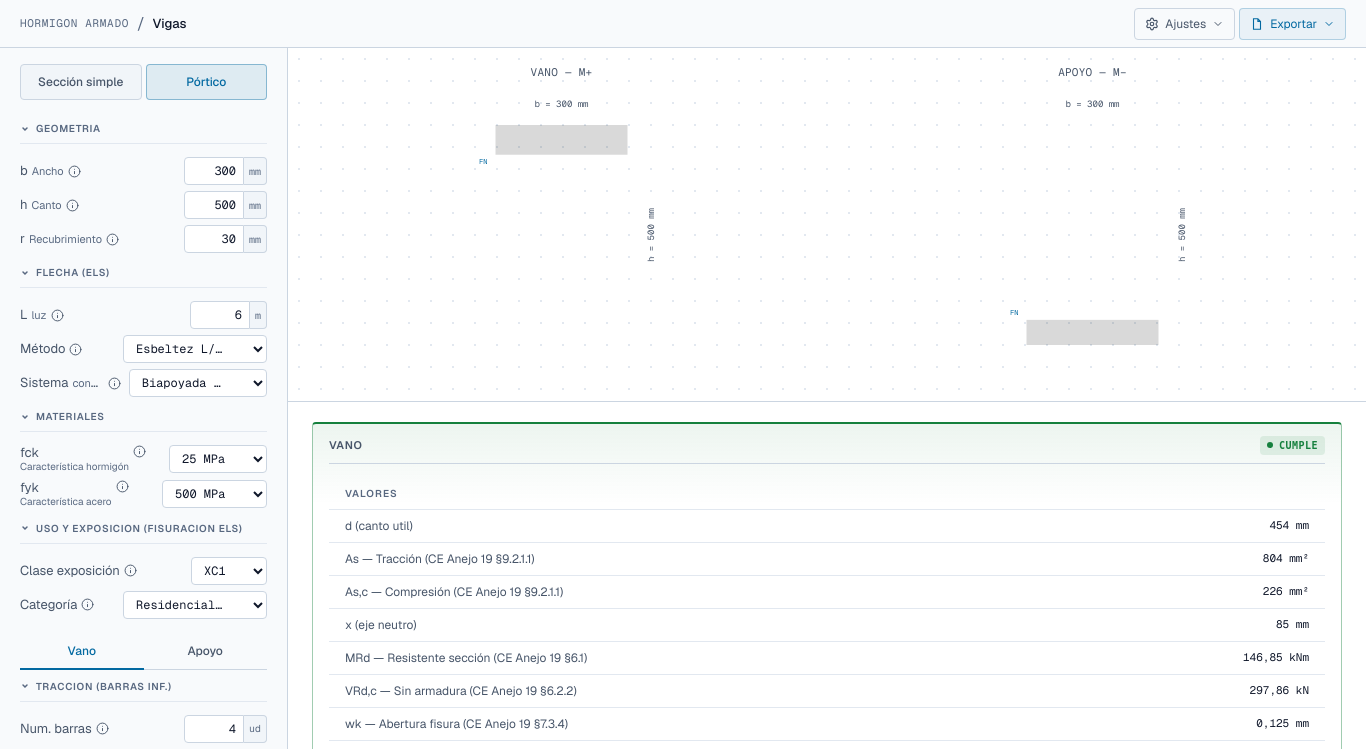
Test: Módulo de pieza — «Guardar en el anejo» desde el desplegable › guarda la pieza con su título y sus páginas, sin previsualizar ni descargar
Click the button labelled "Exportar".
click(1293, 24)  # box [1239,8,1346,40]
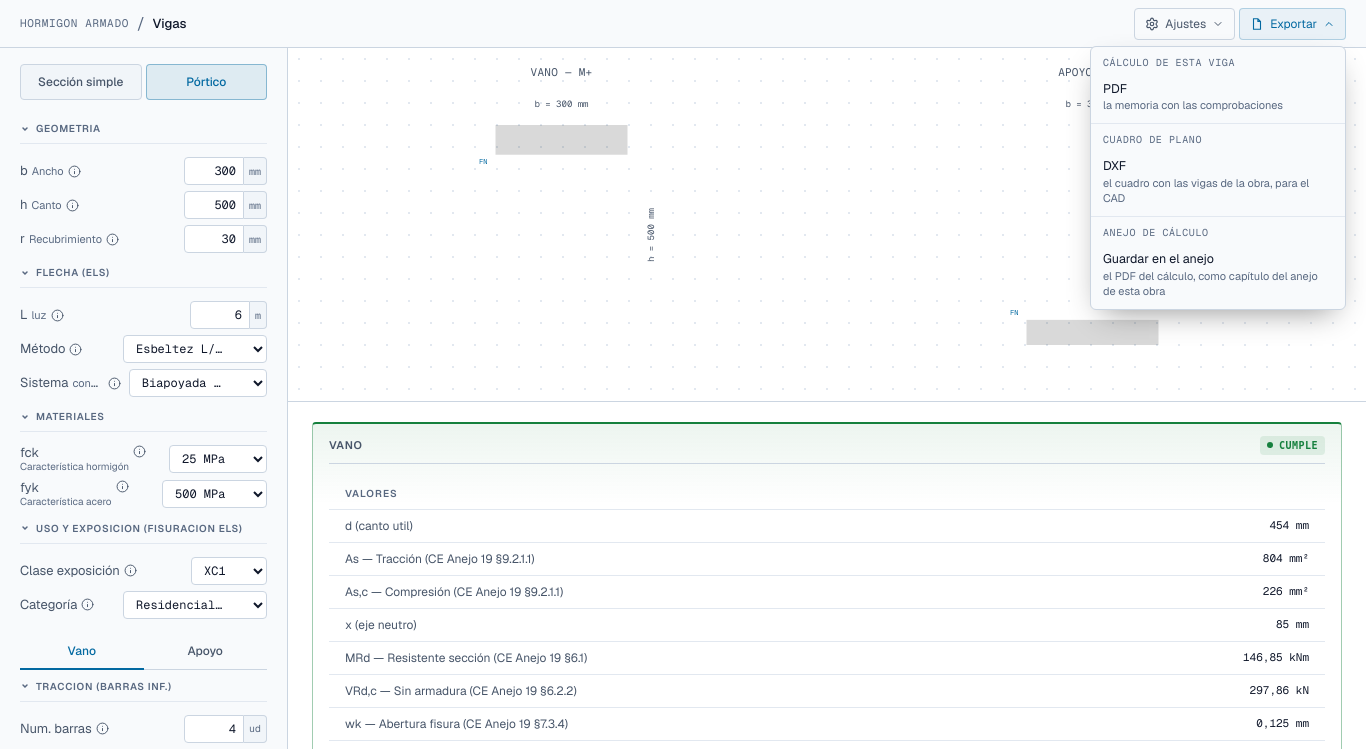
Click the menu item "Guardar en el anejo".
click(1218, 275)  # box [1091,244,1345,305]
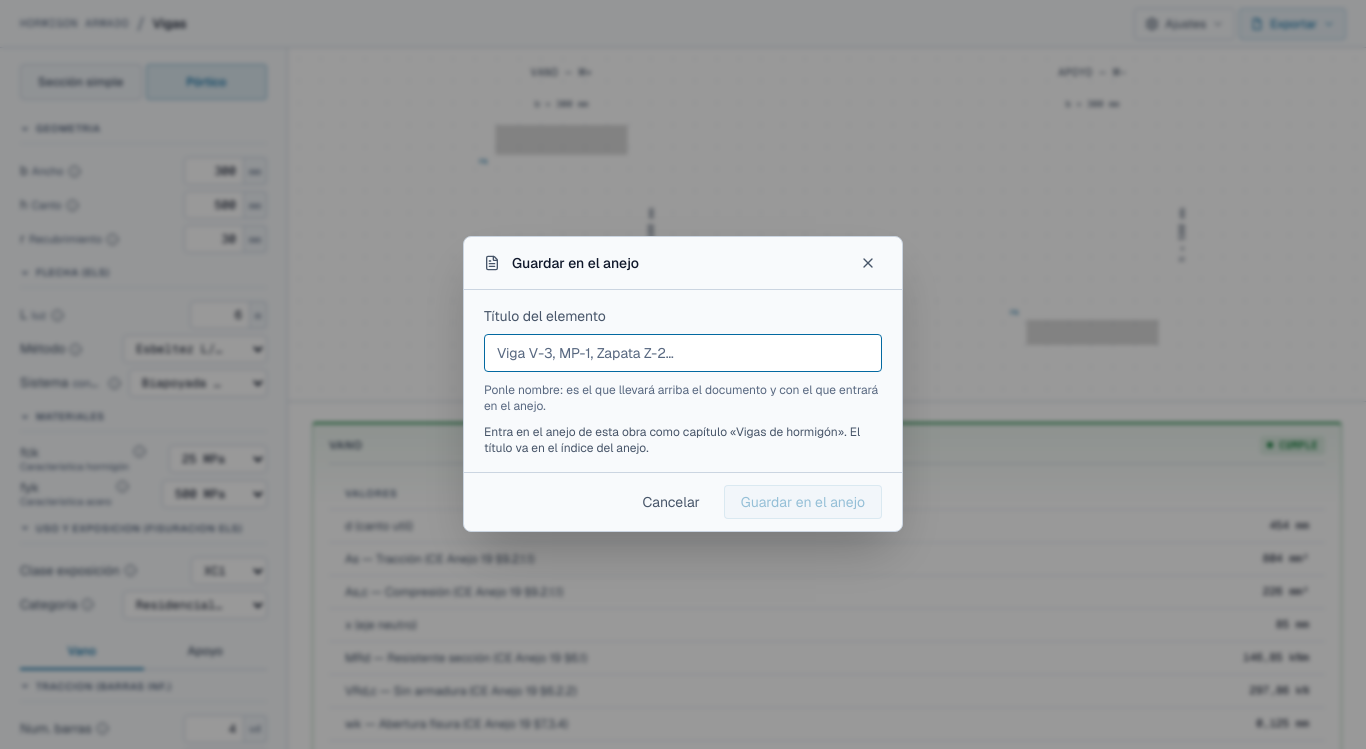
Expected: the dialog shows "Entra en el anejo de esta obra como capítulo", [484,424,860,456]
Type "V-3" into the field.
click(683, 353); type("V-3")  # box [484,334,882,372]
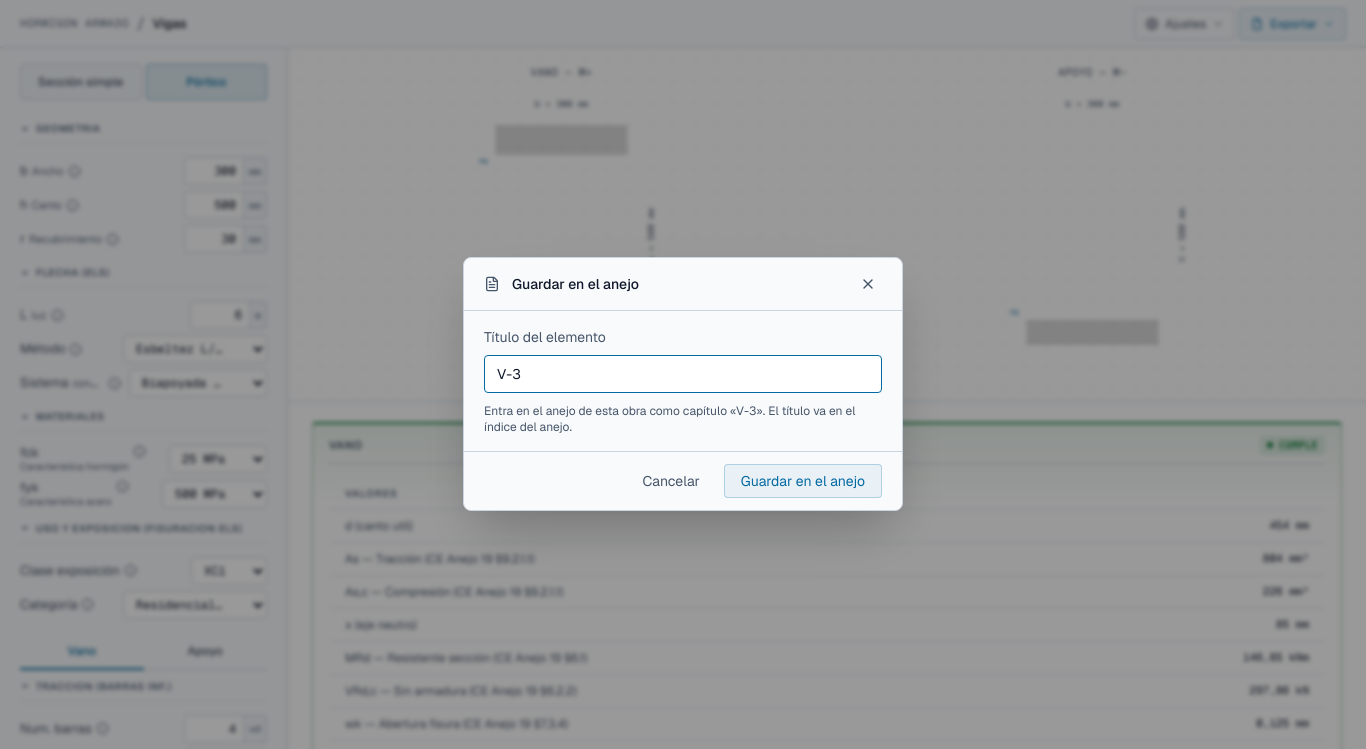
Click the button "Guardar en el anejo".
click(803, 481)  # box [724,464,882,498]
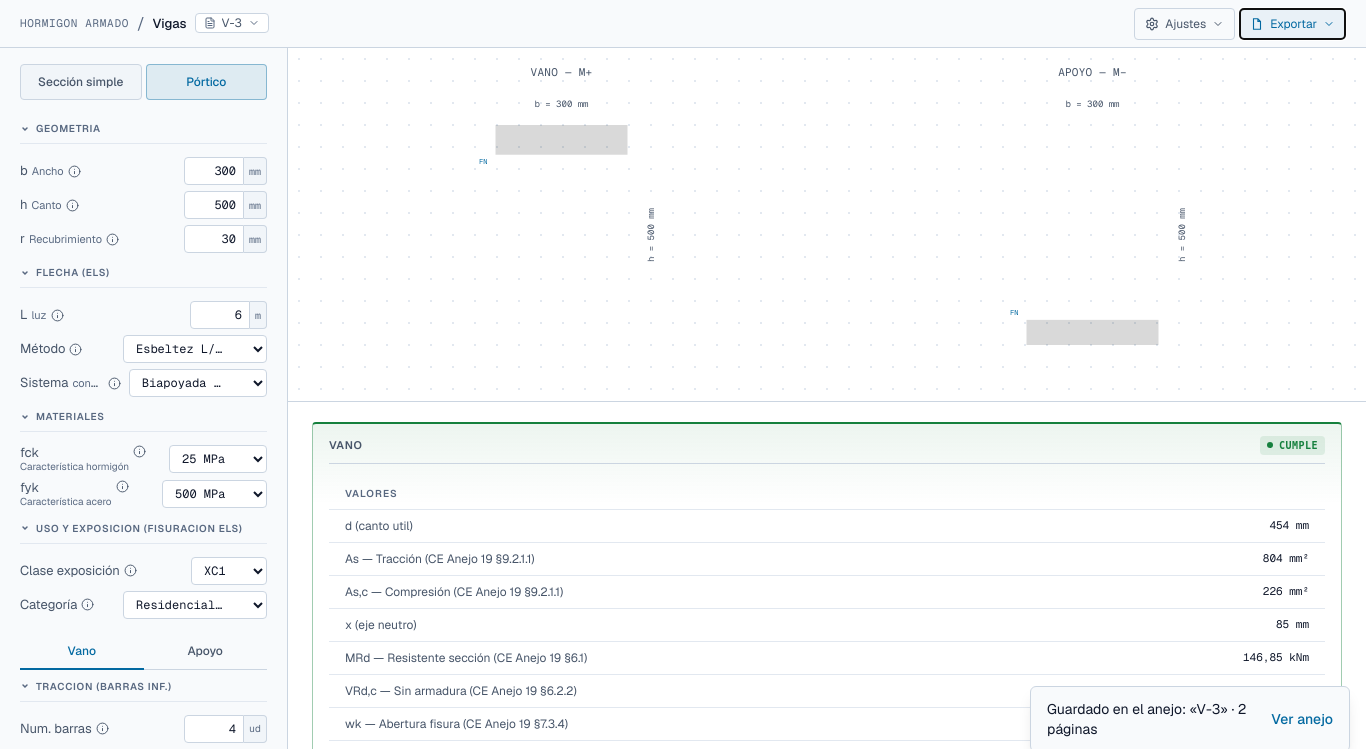
Expected: the text "Guardado en el anejo: «V-3» · 2 páginas" is shown, [1047,699,1259,739]
